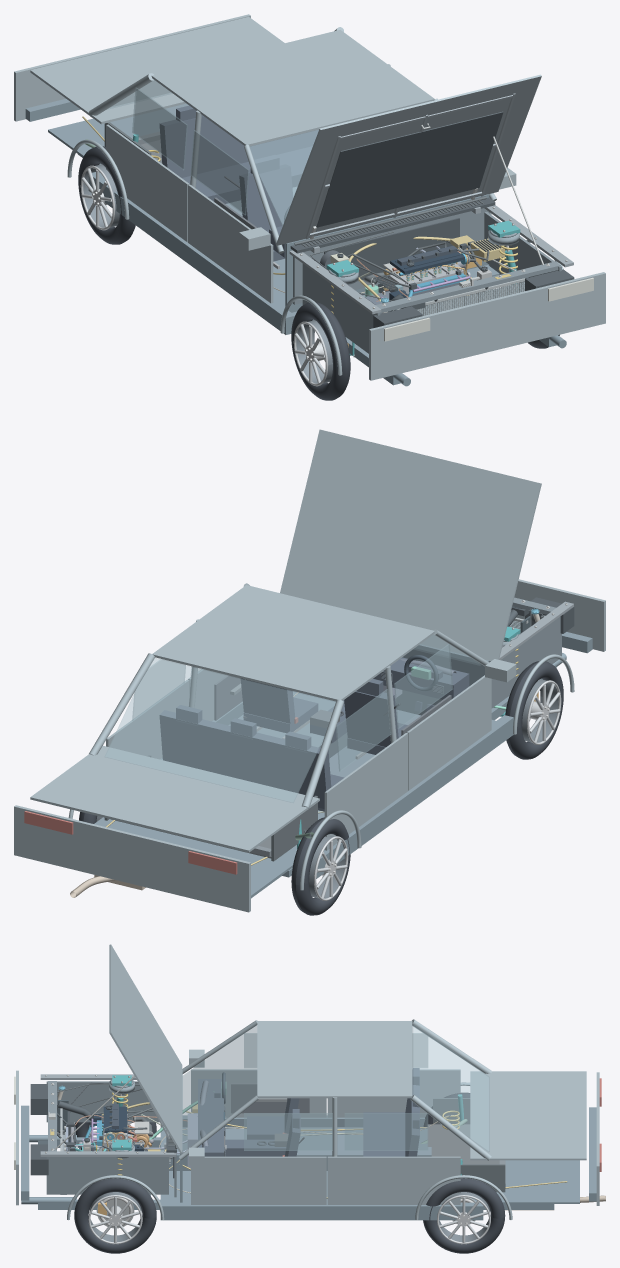
Rendered from cruze-full-r6-plus.glb.
The picture shows the model from 3 angles, top to bottom: view 1: azimuth 30°, elevation 25°; view 2: azimuth 150°, elevation 25°; view 3: azimuth 270°, elevation 25°; orthographic projection. The views are drawn at different scales.
Visible parts, largest first — view 1: roof, bay_hood_pad, front_fascia, hood, trunk_lid, front_door_L, rear_seat_back, rear_door_L, sill_L, windshield, bay_firewall_insulation, sideglass_front_L (+35 smaller); view 2: hood, rear_glass, roof, trunk_lid, rear_fascia, rear_seat_back, front_door_L, rear_door_L, sill_L, sideglass_front_L, rear_floor, sideglass_rear_L (+25 smaller); view 3: roof, trunk_lid, hood, front_door_R, rear_door_R, rear_glass, windshield, sill_R, bay_apron_R, sideglass_front_R, rear_floor, sideglass_rear_R (+37 smaller).
Boxes of the visible parts, x1=… form: roof: x1=151, y1=30, x2=434, y2=146; bay_hood_pad: x1=316, y1=111, x2=503, y2=227; front_fascia: x1=369, y1=272, x2=605, y2=380; hood: x1=276, y1=74, x2=541, y2=245; trunk_lid: x1=30, y1=17, x2=284, y2=124; front_door_L: x1=188, y1=184, x2=273, y2=303; rear_seat_back: x1=159, y1=115, x2=318, y2=177; rear_door_L: x1=106, y1=124, x2=189, y2=242; sill_L: x1=88, y1=172, x2=294, y2=334; windshield: x1=250, y1=130, x2=318, y2=225; bay_firewall_insulation: x1=324, y1=218, x2=459, y2=280; sideglass_front_L: x1=190, y1=130, x2=249, y2=215; hood: x1=280, y1=429, x2=541, y2=660; rear_glass: x1=105, y1=658, x2=335, y2=802; roof: x1=152, y1=585, x2=434, y2=701; trunk_lid: x1=30, y1=745, x2=319, y2=852; rear_fascia: x1=14, y1=805, x2=250, y2=912; rear_seat_back: x1=159, y1=710, x2=331, y2=808; front_door_L: x1=406, y1=675, x2=491, y2=790; rear_door_L: x1=324, y1=733, x2=408, y2=850; sill_L: x1=316, y1=715, x2=513, y2=878; sideglass_front_L: x1=394, y1=644, x2=452, y2=728; rear_floor: x1=94, y1=817, x2=297, y2=897; sideglass_rear_L: x1=336, y1=689, x2=391, y2=771; roof: x1=257, y1=1021, x2=412, y2=1098; trunk_lid: x1=470, y1=1071, x2=586, y2=1160; hood: x1=109, y1=944, x2=182, y2=1153; front_door_R: x1=191, y1=1156, x2=326, y2=1204; rear_door_R: x1=327, y1=1156, x2=460, y2=1204; rear_glass: x1=412, y1=1024, x2=489, y2=1152; windshield: x1=183, y1=1025, x2=256, y2=1151; sill_R: x1=160, y1=1202, x2=483, y2=1220; bay_apron_R: x1=46, y1=1157, x2=168, y2=1194; sideglass_front_R: x1=244, y1=1113, x2=332, y2=1150; rear_floor: x1=471, y1=1160, x2=579, y2=1203; sideglass_rear_R: x1=344, y1=1113, x2=428, y2=1150.
Bounding box in the file's own units: 19.6 × 19 × 45.88.
